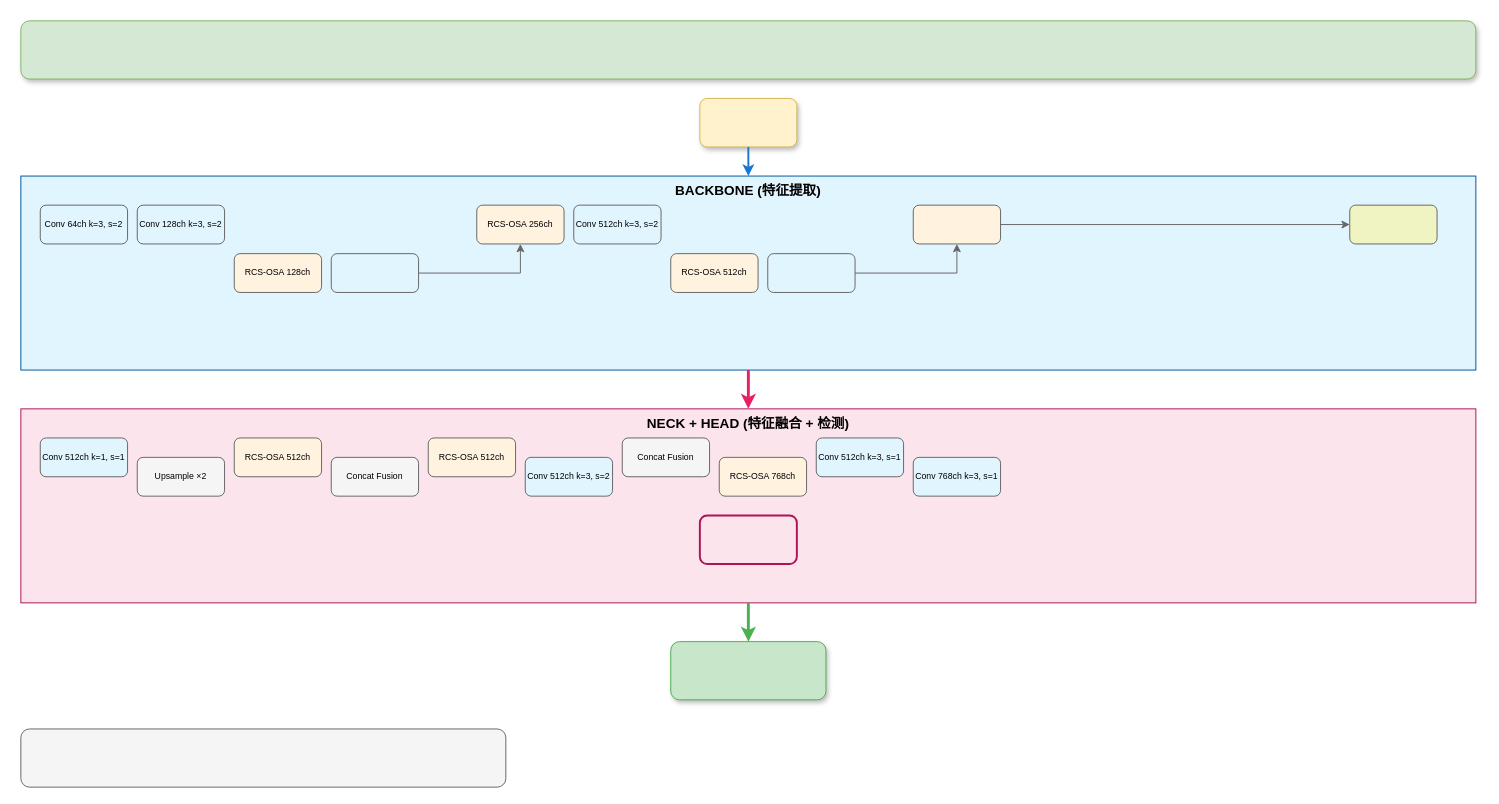
Some shapes in this 1499 by 804 pixel diagram are drawn without their labels. Here are the shapes that lost their labels. From the top down, the centre of each, then its label:
At (x=749, y=51): "YOLOv4-RCSOSA RCS-OSA模块 + 标准卷积 + IDetect检测头".
At (x=749, y=124): "Input Image 640×640×3".
At (x=956, y=224): "RCS-OSA 1024ch".
At (x=1393, y=224): "SPPF 1024ch".
At (x=374, y=272): "Conv 256ch k=3, s=2".
At (x=811, y=272): "Conv 1024ch k=3, s=2".
At (x=747, y=539): "IDetect Classes: nc".
At (x=749, y=672): "Detection Results Bounding Boxes + Confidence Scores".
At (x=263, y=757): "模块图例 ■ 标准卷积 ■ RepVGG ■ CSP ■ RCS-OSA ■ 注意力".
